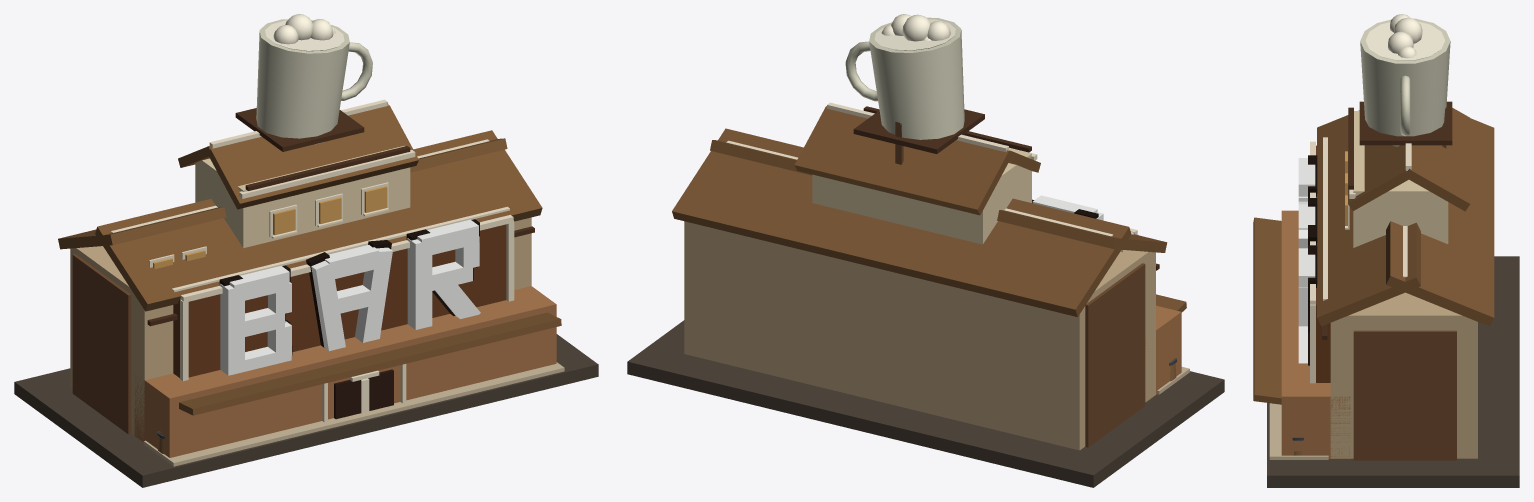
The model's file is bar-building-wide.glb.
The picture shows the model from 3 angles, left to right: view 1: azimuth 30°, elevation 25°; view 2: azimuth 150°, elevation 25°; view 3: azimuth 270°, elevation 25°; orthographic projection. The views are drawn at different scales.
Parts seen in each view (by area): view 1: bar_building_wide; view 2: bar_building_wide; view 3: bar_building_wide.
Part boxes in pixels (x1=…): bar_building_wide: x1=14, y1=14, x2=598, y2=487; bar_building_wide: x1=627, y1=14, x2=1224, y2=487; bar_building_wide: x1=1253, y1=14, x2=1519, y2=487.
Size of the model in its own units: 22.4 by 17.11 by 11.49.
